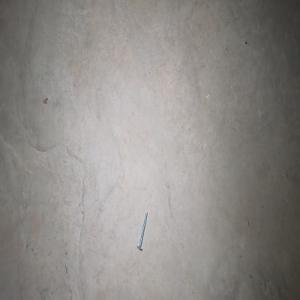Bolt: (136, 210, 147, 251)
